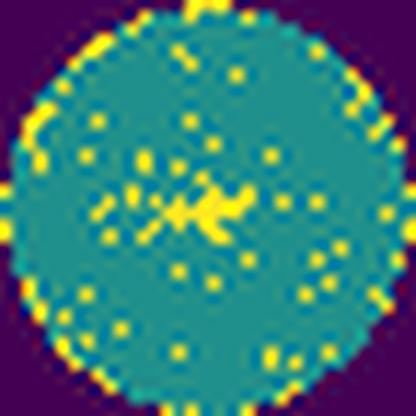Center: (154, 177, 257, 247)
